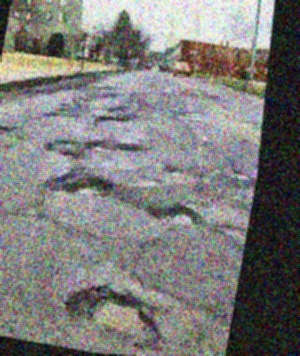pothole: (58, 269, 171, 351), (143, 195, 201, 233), (62, 167, 116, 203), (97, 108, 134, 127), (85, 136, 117, 157), (117, 137, 149, 155)
